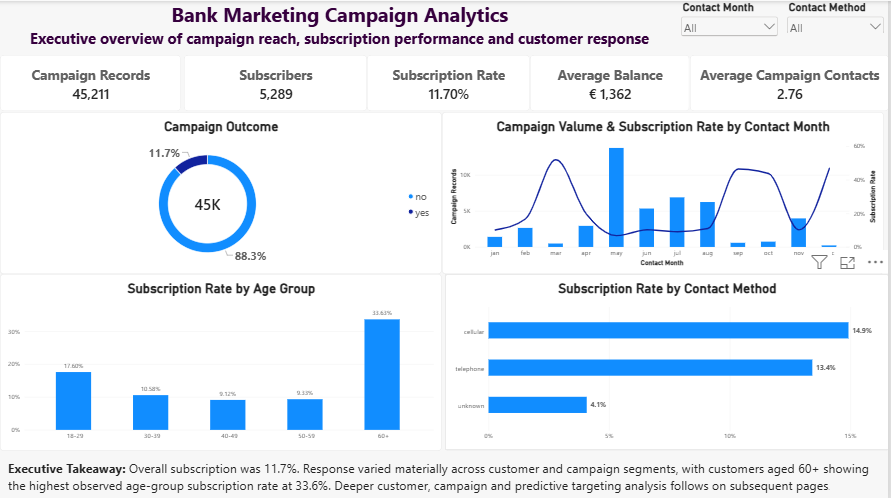

What the dashboard file says about the page in this screenshot:
{"tool":"powerbi","page":{"name":"01 Executive Campaign Overview","canvas":[1920,1080],"ordinal":0},"visuals":[{"type":"cardVisual","fields":{"Data":["_Measures.Campaign Records"]},"box":[0,117.3,390.9,121.9],"z":0},{"type":"cardVisual","fields":{"Data":["_Measures.Subscribers"]},"box":[397.8,117.3,395.5,121.9],"z":1},{"type":"cardVisual","fields":{"Data":["_Measures.Subscription Rate"]},"box":[793.3,117.3,351.8,121.9],"z":2},{"type":"cardVisual","fields":{"Data":["_Measures.Average Balance"]},"box":[1145.1,117.3,344.9,121.9],"z":3},{"type":"cardVisual","fields":{"Data":["_Measures.Average Campaign Contacts"]},"box":[1490,117.3,430,121.9],"z":4},{"type":"textbox","box":[0,0,1467,117.3],"z":7},{"type":"slicer","fields":{"Values":["Campaign_Data.month"]},"box":[1467,0,218.4,92],"z":8},{"type":"slicer","fields":{"Values":["Campaign_Data.contact"]},"box":[1694.7,0,218.4,69],"z":9},{"type":"donutChart","title":"Campaign Outcome","fields":{"Category":["Campaign_Data.subscribed"],"Y":["_Measures.Campaign Records"]},"box":[0,239.1,954.3,349.5],"z":10},{"type":"lineClusteredColumnComboChart","title":"Campaign Valume & Subscription Rate by Contact Month","fields":{"Category":["Campaign_Data.month"],"Y":["_Measures.Campaign Records"],"Y2":["_Measures.Subscription Rate"]},"box":[954.3,239.1,954.3,349.5],"z":11},{"type":"clusteredColumnChart","title":"Subscription Rate by Age Group","fields":{"Category":["Campaign_Data.age_group"],"Y":["_Measures.Subscription Rate"]},"box":[0,588.6,954.3,381.7],"z":12},{"type":"clusteredBarChart","title":"Subscription Rate by Contact Method ","fields":{"Category":["Campaign_Data.contact"],"Y":["_Measures.Subscription Rate"]},"box":[961.1,588.6,958.9,381.7],"z":13},{"type":"textbox","box":[17.3,991.4,1903,86.4],"z":14}]}

Visuals, with their boxes in screenshot pixels (x1, y1, x2, y2), scaled from the page's 1920x1080 canvas onto the 891x498 screenshot:
cardVisual - _Measures.Campaign Records: box=[0, 54, 181, 110]
cardVisual - _Measures.Subscribers: box=[185, 54, 368, 110]
cardVisual - _Measures.Subscription Rate: box=[368, 54, 531, 110]
cardVisual - _Measures.Average Balance: box=[531, 54, 691, 110]
cardVisual - _Measures.Average Campaign Contacts: box=[691, 54, 890, 110]
textbox: box=[0, 0, 681, 54]
slicer - Campaign_Data.month: box=[681, 0, 782, 42]
slicer - Campaign_Data.contact: box=[786, 0, 888, 32]
"Campaign Outcome" donutChart: box=[0, 110, 443, 271]
"Campaign Valume & Subscription Rate by Contact Month" lineClusteredColumnComboChart: box=[443, 110, 886, 271]
"Subscription Rate by Age Group" clusteredColumnChart: box=[0, 271, 443, 447]
"Subscription Rate by Contact Method " clusteredBarChart: box=[446, 271, 890, 447]
textbox: box=[8, 457, 890, 497]
